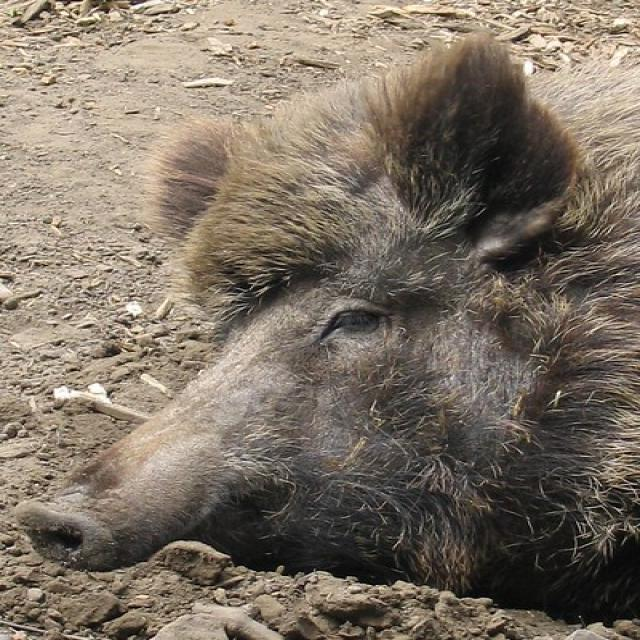boar: (9, 31, 640, 615)
